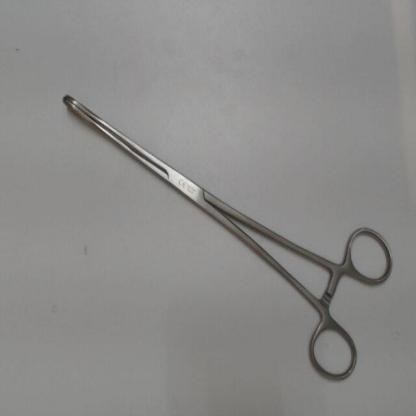Sponge Forceps: (56, 86, 402, 392)
